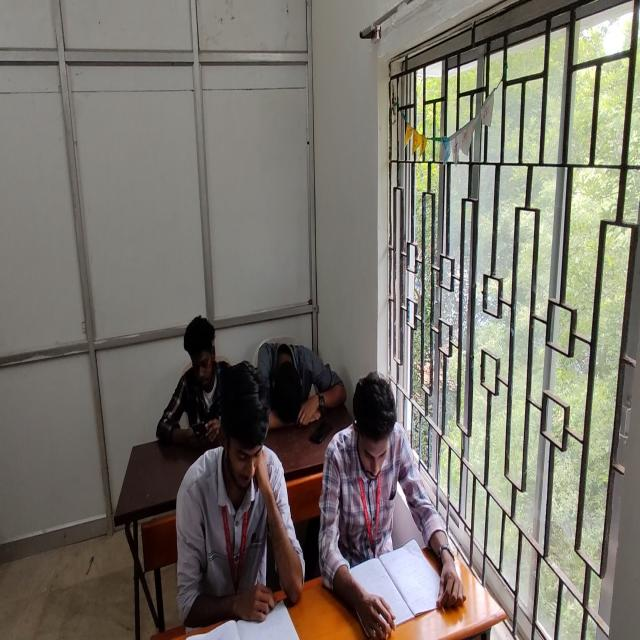reading: (174, 357, 305, 635), (323, 370, 446, 637)
sleeping: (256, 341, 344, 431)
using_mobile: (156, 315, 232, 450)
